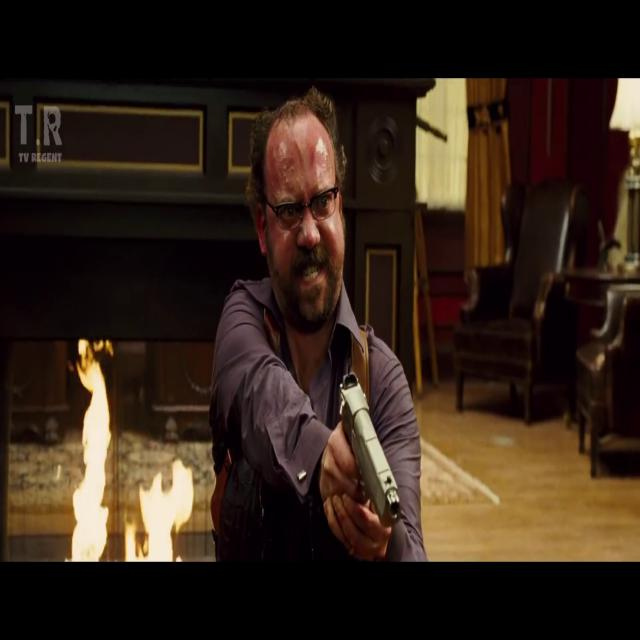handgun: (322, 358, 414, 546)
